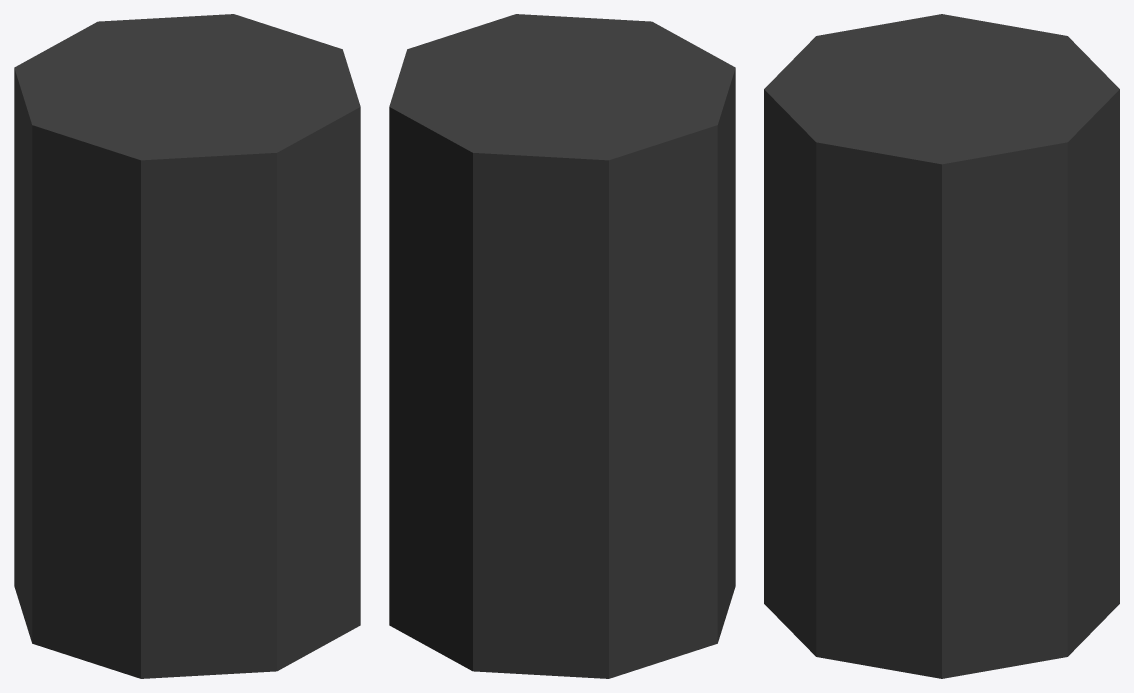
File: woodstovepipe02.gltf
3 renders of one model, left to right at view 1: azimuth 30°, elevation 25°; view 2: azimuth 150°, elevation 25°; view 3: azimuth 270°, elevation 25°, orthographic.
Parts seen in each view (by area): view 1: Cylinder; view 2: Cylinder; view 3: Cylinder.
Boxes of the visible parts, left/top/right/bottom form: Cylinder: left=14, top=14, right=360, bottom=678; Cylinder: left=389, top=14, right=735, bottom=678; Cylinder: left=764, top=14, right=1119, bottom=678.
Bounding box in the file's own units: 0.2134 × 0.3405 × 0.2134.
Materials: 1 (1 with a texture image).
